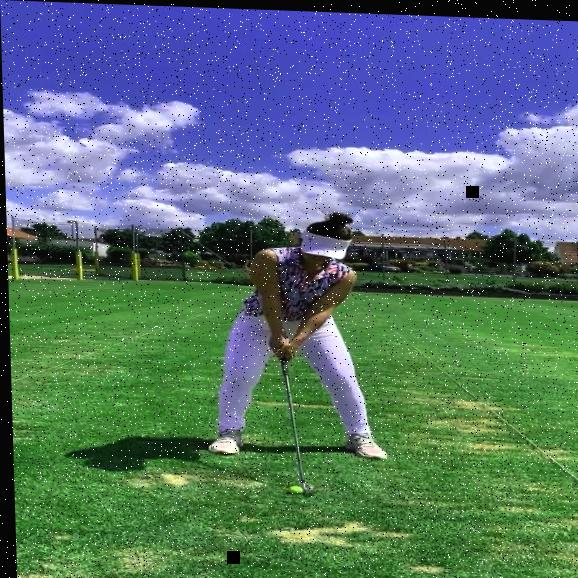ClubHead: (300, 482, 310, 494)
GolfBall: (284, 483, 301, 493)
